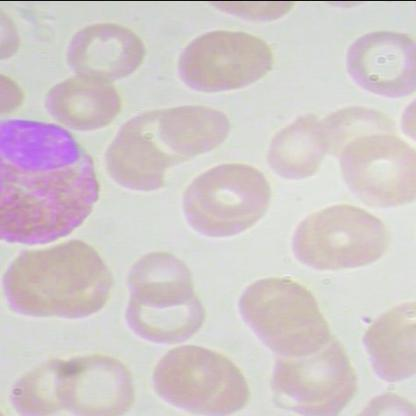RBC: (178, 158, 280, 244), (173, 23, 281, 96), (138, 338, 230, 414), (64, 18, 152, 92), (54, 342, 140, 416), (300, 200, 392, 268), (254, 107, 332, 184), (343, 26, 415, 102), (40, 69, 124, 131), (120, 247, 204, 309)
WBC: (1, 112, 115, 253)
